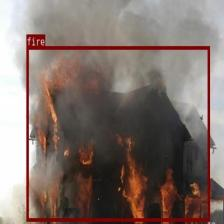fire: (26, 46, 210, 221)
